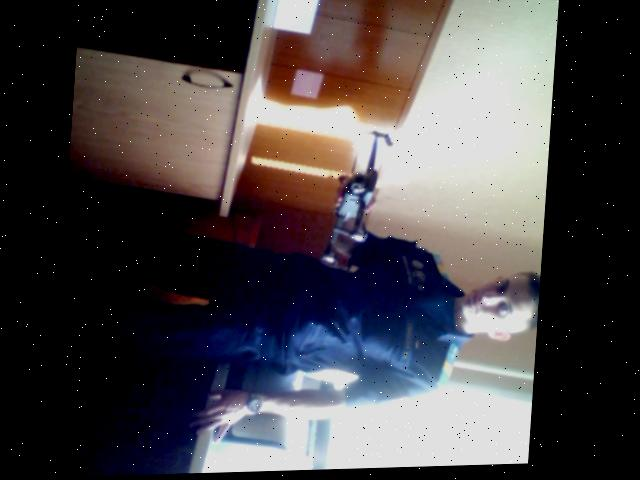drone: (318, 121, 401, 278)
